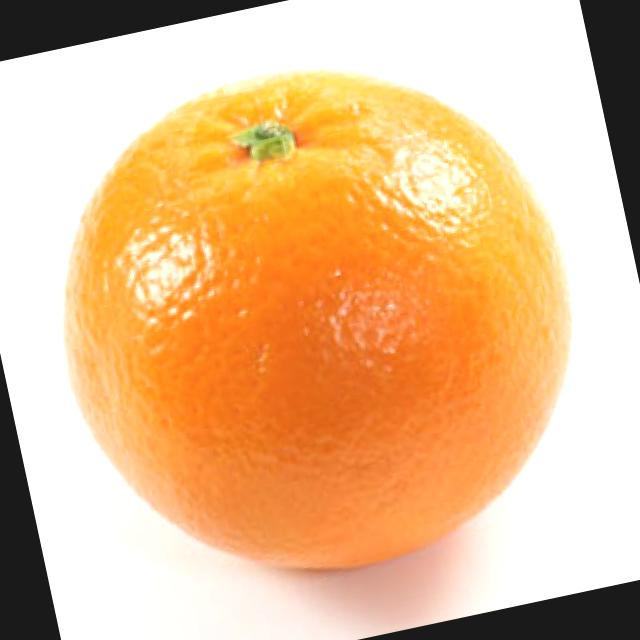orange: (1, 22, 626, 628)
